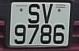6: (52, 23, 66, 46)
7: (26, 23, 41, 46)
8: (39, 23, 53, 46)
9: (13, 23, 27, 46)
S: (28, 2, 42, 26)
V: (40, 3, 54, 25)
